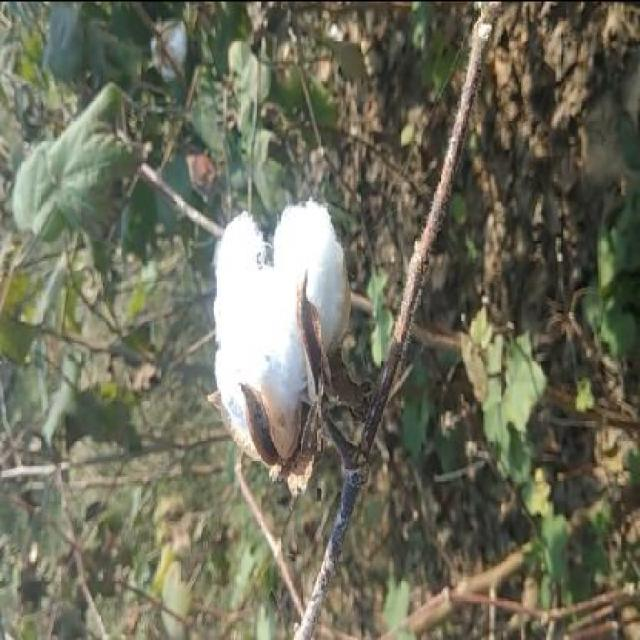cotton_ready: (175, 187, 422, 501)
